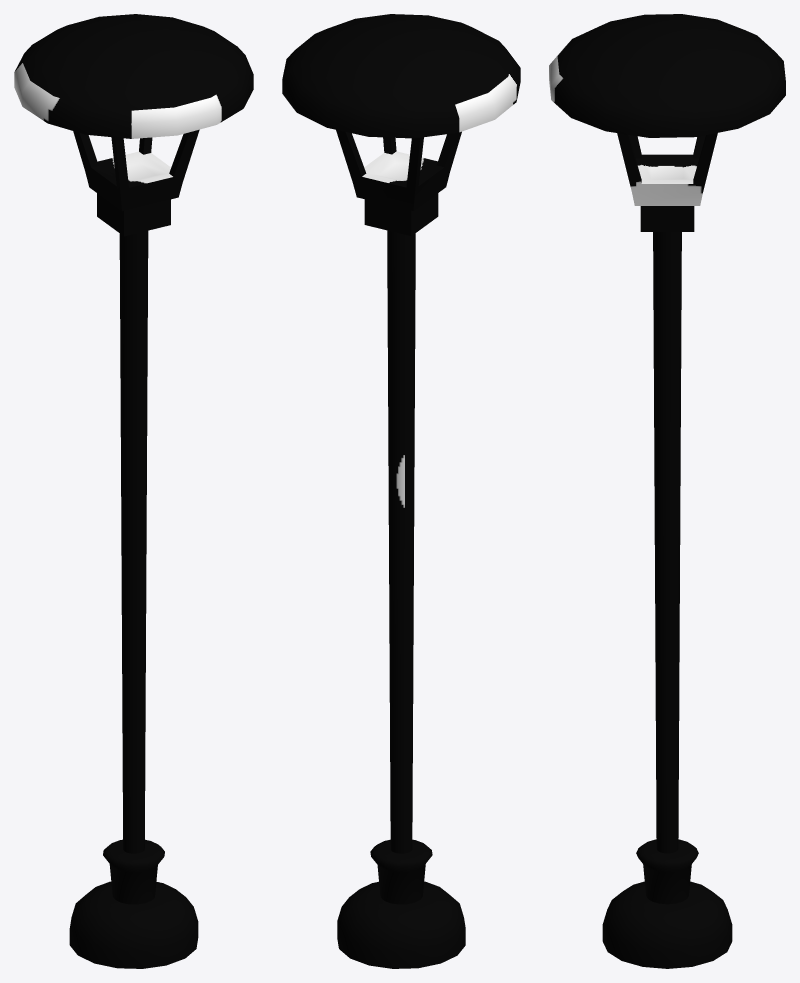
The model's file is BasicLampPost.fbx.
3 renders of one model, left to right at view 1: azimuth 30°, elevation 25°; view 2: azimuth 150°, elevation 25°; view 3: azimuth 270°, elevation 25°, orthographic.
Parts seen in each view (by area): view 1: BasicLampPost; view 2: BasicLampPost; view 3: BasicLampPost.
Boxes of the visible parts, left/top/right/bottom form: BasicLampPost: left=14, top=14, right=253, bottom=968; BasicLampPost: left=282, top=14, right=520, bottom=968; BasicLampPost: left=549, top=14, right=785, bottom=968.
Size of the model in its own units: 1.16 by 4.89 by 1.16.
